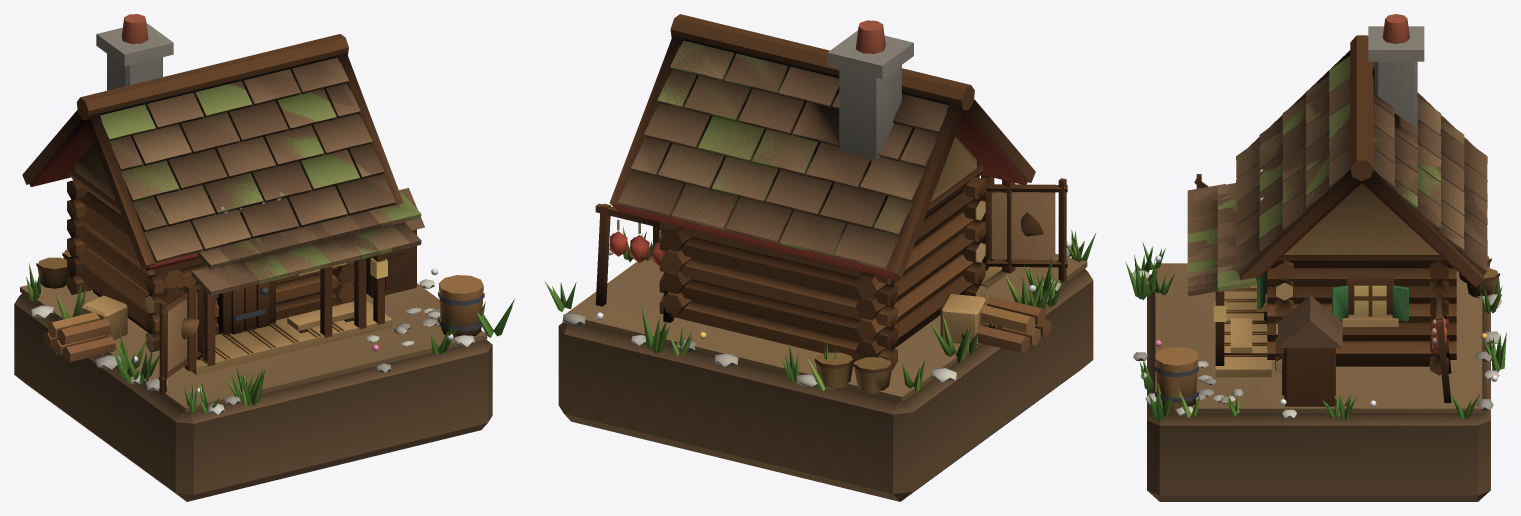
The model's file is hunter.glb.
3 views of the same model, side by side, from view 1: azimuth 30°, elevation 25°; view 2: azimuth 150°, elevation 25°; view 3: azimuth 270°, elevation 25° (orthographic). The views are drawn at different scales.
Parts seen in each view (by area): view 1: hunter_l1, hunter_l3, hunter_l2; view 2: hunter_l1, hunter_l2, hunter_l3; view 3: hunter_l1, hunter_l3, hunter_l2.
Part boxes in pixels (<box>): hunter_l1: <box>14,14,514,501</box>; hunter_l3: <box>68,57,484,414</box>; hunter_l2: <box>26,60,485,405</box>; hunter_l1: <box>558,14,1096,501</box>; hunter_l2: <box>562,40,1071,393</box>; hunter_l3: <box>545,49,1084,367</box>; hunter_l1: <box>1142,14,1506,501</box>; hunter_l3: <box>1132,69,1502,419</box>; hunter_l2: <box>1125,56,1502,420</box>.
Bounding box in the file's own units: 0.9885 × 0.96 × 0.8869.
